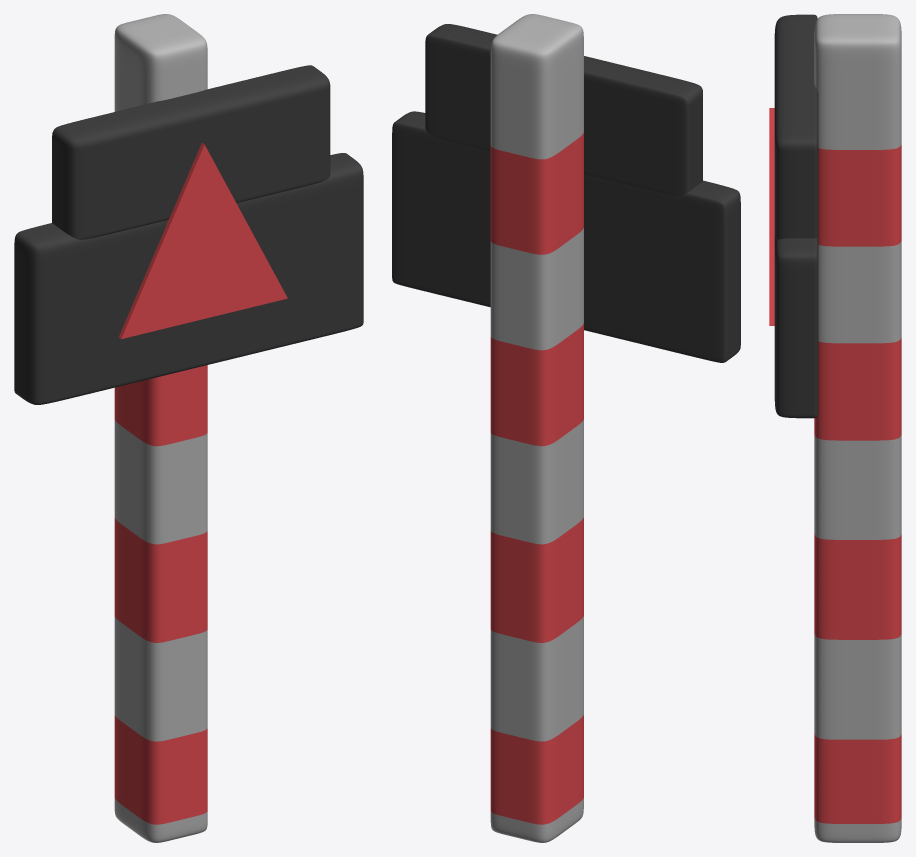
The model's file is WarningSign.fbx.
3 views of the same model, side by side, from view 1: azimuth 30°, elevation 25°; view 2: azimuth 150°, elevation 25°; view 3: azimuth 270°, elevation 25° (orthographic).
Visible parts, largest first — view 1: Cube.052, Cube.053, Cube.054, Cube.081; view 2: Cube.052, Cube.053, Cube.054; view 3: Cube.052, Cube.054, Cube.053, Cube.081.
Boxes of the visible parts, left/top/right/bottom form: Cube.052: left=114, top=14, right=207, bottom=842; Cube.053: left=14, top=153, right=363, bottom=404; Cube.054: left=52, top=65, right=330, bottom=239; Cube.081: left=119, top=143, right=287, bottom=338; Cube.052: left=490, top=14, right=583, bottom=842; Cube.053: left=392, top=111, right=740, bottom=362; Cube.054: left=425, top=24, right=702, bottom=195; Cube.052: left=814, top=14, right=901, bottom=842; Cube.054: left=774, top=14, right=818, bottom=239; Cube.053: left=774, top=230, right=818, bottom=418; Cube.081: left=769, top=108, right=774, bottom=325.
Bounding box in the file's own units: 165 × 375 × 55.91.
